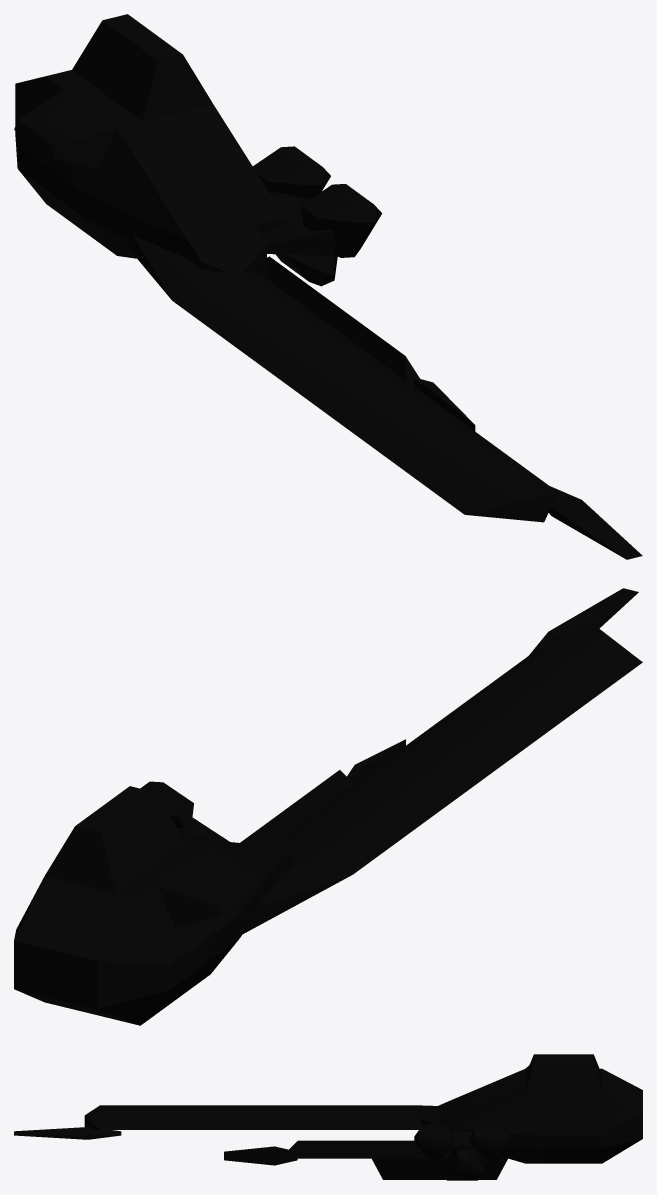
File: sensor_l_01.glb
3 views of the same model, one above another, from view 1: azimuth 30°, elevation 25°; view 2: azimuth 150°, elevation 25°; view 3: azimuth 270°, elevation 25° (orthographic). The views are drawn at different scales.
Parts seen in each view (by area): view 1: sensor_l_01_LOD0; view 2: sensor_l_01_LOD0; view 3: sensor_l_01_LOD0.
Boxes of the visible parts, bbox=[...] form: sensor_l_01_LOD0: bbox=[14, 14, 642, 559]; sensor_l_01_LOD0: bbox=[14, 588, 642, 1025]; sensor_l_01_LOD0: bbox=[14, 1054, 642, 1180].
Bounding box in the file's own units: 0.7421 × 0.6823 × 3.32.
Materials: 1 (1 with a texture image).
